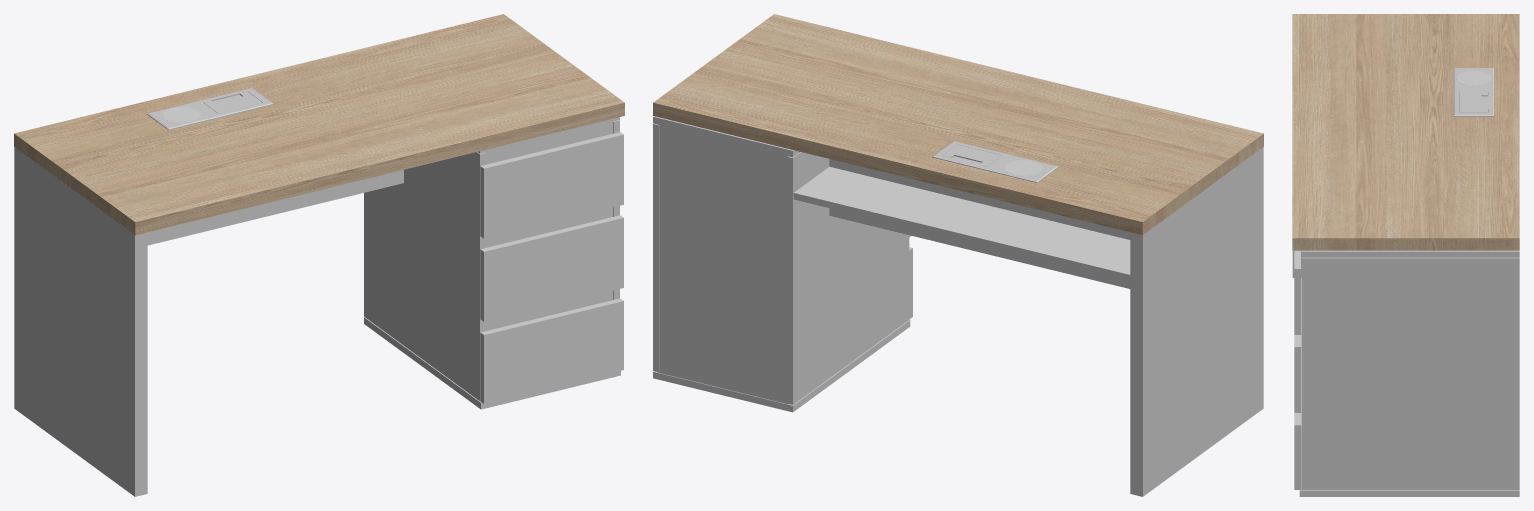
3 views of the same model, side by side, from view 1: azimuth 30°, elevation 25°; view 2: azimuth 150°, elevation 25°; view 3: azimuth 270°, elevation 25° (orthographic). The views are drawn at different scales.
Parts seen in each view (by area): view 1: Shape008, Shape129, Shape004, Shape010, Shape087, Shape007, Box002, Shape043, Shape053; view 2: Shape008, Shape129, Shape042, Shape010, Shape089, Shape007, Shape043, Box002, Shape041; view 3: Shape008, Shape010, Shape041, Shape004, Box002, Shape043, Cylinder002, Shape053.
Part boxes in pixels (<box>): Shape008: <box>14,14,624,235</box>; Shape129: <box>14,147,147,496</box>; Shape004: <box>480,132,623,403</box>; Shape010: <box>364,120,619,400</box>; Shape087: <box>486,121,612,330</box>; Shape007: <box>147,170,403,245</box>; Box002: <box>147,88,273,129</box>; Shape043: <box>364,317,480,408</box>; Shape053: <box>368,322,620,409</box>; Shape008: <box>653,14,1263,235</box>; Shape129: <box>1130,147,1263,496</box>; Shape042: <box>657,124,788,404</box>; Shape010: <box>653,123,909,404</box>; Shape089: <box>793,166,1130,281</box>; Shape007: <box>829,159,1130,288</box>; Shape043: <box>653,320,909,412</box>; Box002: <box>932,141,1058,182</box>; Shape041: <box>653,116,799,157</box>; Shape008: <box>1292,14,1519,250</box>; Shape010: <box>1301,257,1519,489</box>; Shape041: <box>1301,250,1519,257</box>; Shape004: <box>1294,250,1300,489</box>; Box002: <box>1453,68,1493,116</box>; Shape043: <box>1301,490,1519,496</box>; Cylinder002: <box>1456,71,1491,85</box>; Shape053: <box>1299,427,1512,496</box>.
Size of the model in its own units: 1.4 by 0.7571 by 0.6.
Materials: 3 (1 with a texture image).
